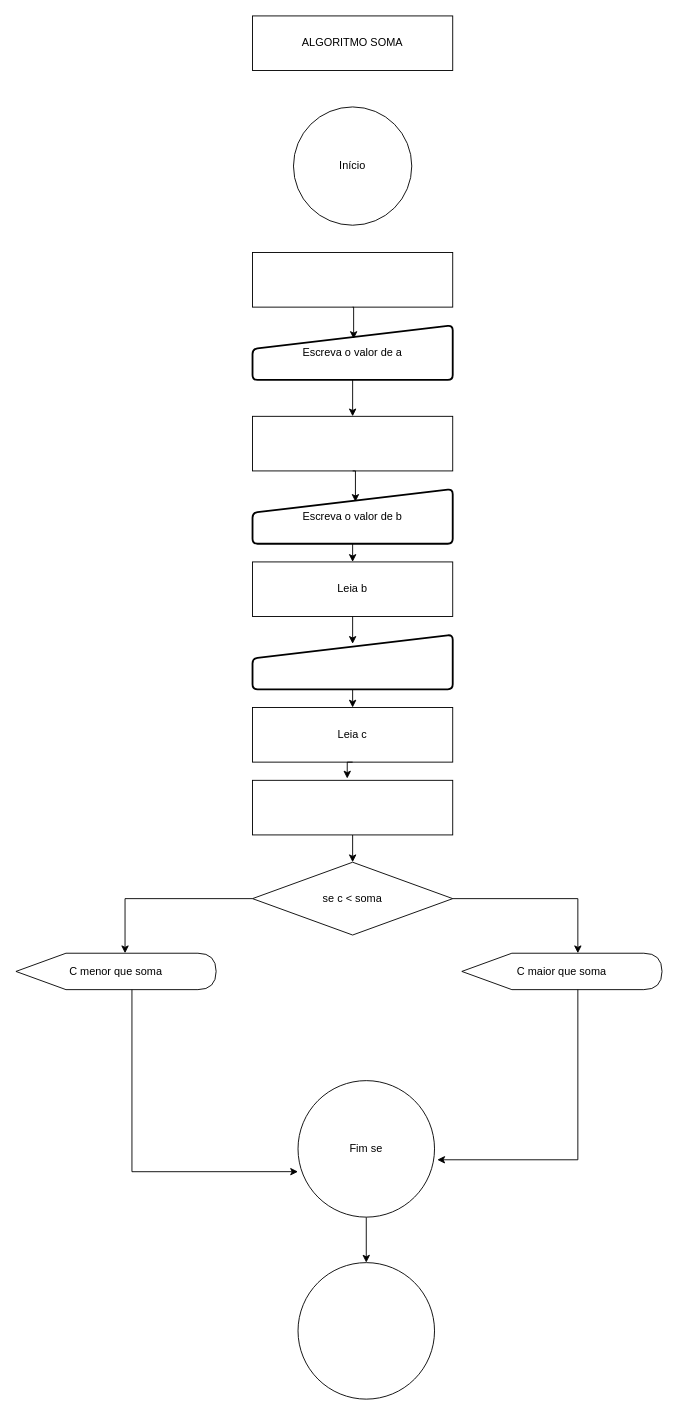
This 678x1415 diagram has some shape labels left out. The shapes that lost their labels are listed below. From the top down, each one's box as (x1, y1, x2, y2) in pixels, then its label:
(252, 252, 453, 307): Soma: int a: int b: int c: int
(252, 415, 453, 471): Leia a
(251, 633, 453, 690): Escreva o valor de c
(252, 779, 453, 835): Soma a e b
(297, 1262, 435, 1399): Fim
